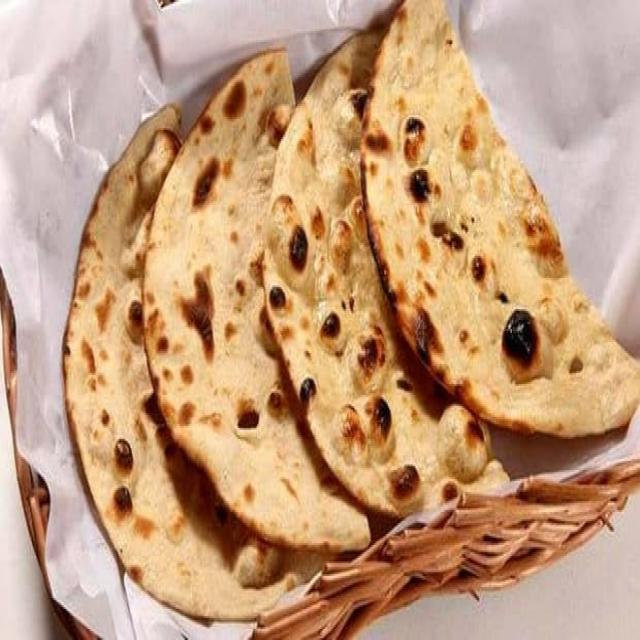roti: (61, 3, 640, 630)
